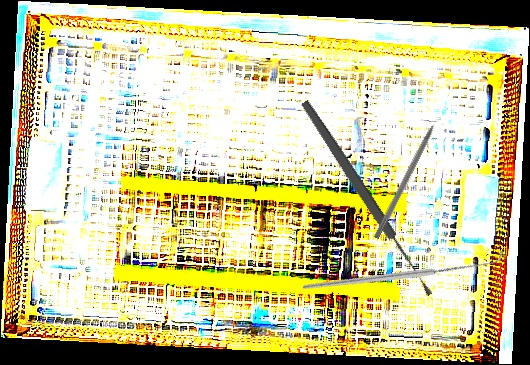Hook Surgical: (301, 185, 504, 356), (373, 109, 445, 241)
Surgical Spoon: (298, 98, 436, 299)
